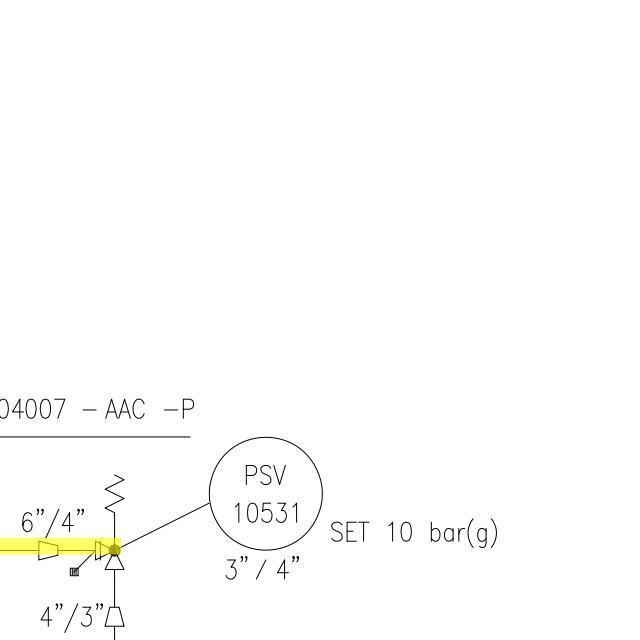RPV: (90, 467, 138, 578)
SP: (31, 533, 63, 563), (99, 601, 129, 628)
